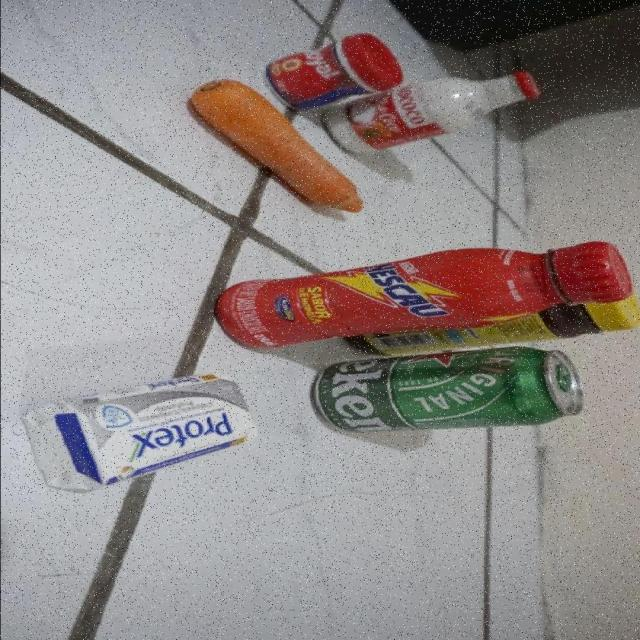BeerCan: (321, 349, 586, 434)
Carrot: (197, 84, 352, 212)
ChocolateMilk: (195, 249, 640, 309)
ChocolatePowder: (508, 300, 640, 351)
CoconutMilk: (342, 76, 530, 158)
Soap: (28, 374, 254, 498)
Yeast: (276, 29, 404, 106)
